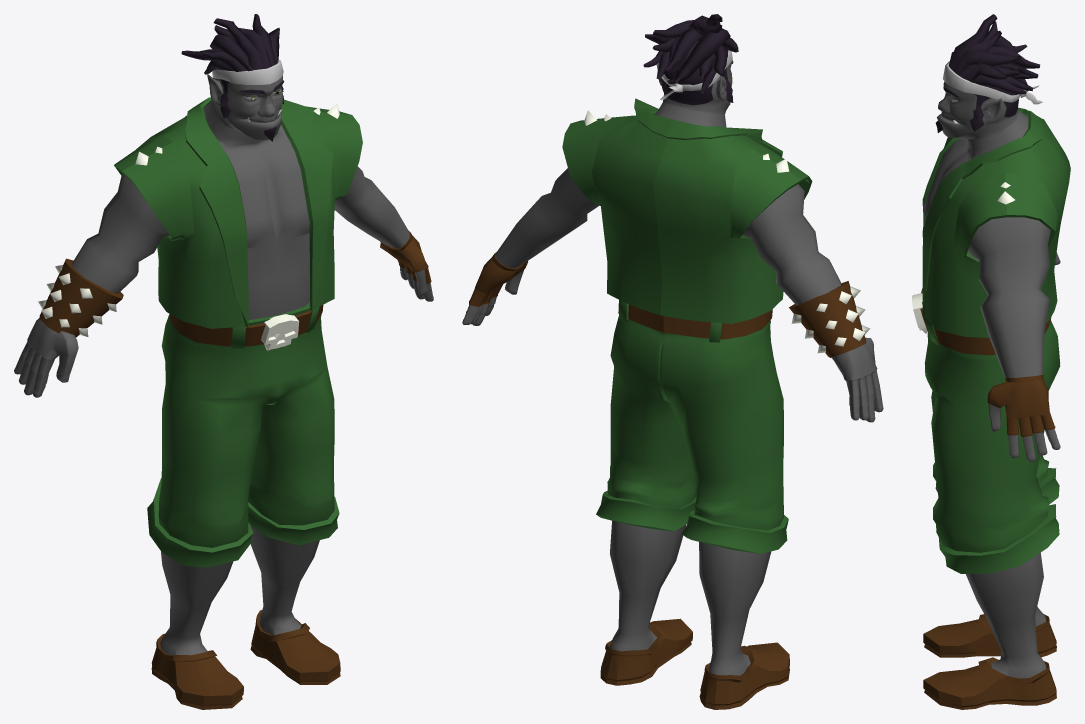
File: Sid_WIP_OCT7.fbx
The picture shows the model from 3 angles, left to right: view 1: azimuth 30°, elevation 25°; view 2: azimuth 150°, elevation 25°; view 3: azimuth 270°, elevation 25°; orthographic projection. The views are drawn at different scales.
Parts seen in each view (by area): view 1: sid_belt_mesh1; view 2: sid_belt_mesh1; view 3: sid_belt_mesh1.
Part boxes in pixels (left/top/right/bottom): sid_belt_mesh1: left=14, top=14, right=433, bottom=709; sid_belt_mesh1: left=462, top=14, right=883, bottom=709; sid_belt_mesh1: left=912, top=14, right=1070, bottom=709.
Bounding box in the file's own units: 15.72 × 24.81 × 5.54.
